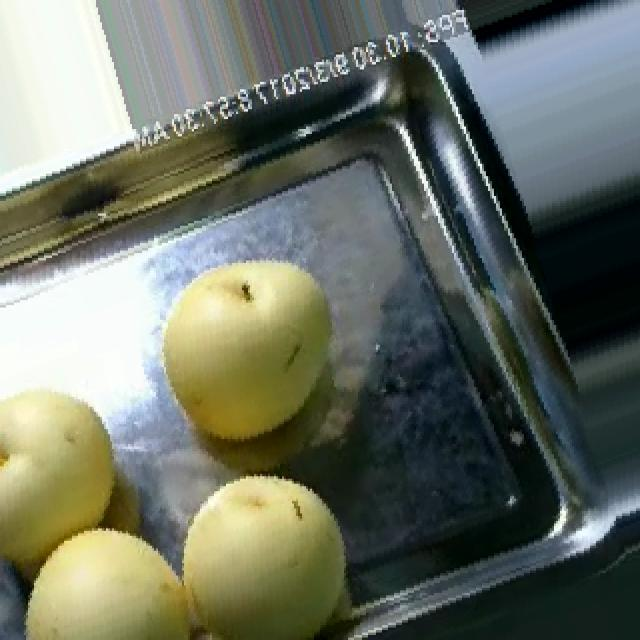Fruit: (128, 228, 372, 474), (150, 441, 380, 640), (0, 358, 146, 590), (0, 516, 208, 640)
